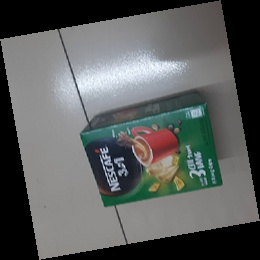Nes Rang: (78, 88, 223, 209)
